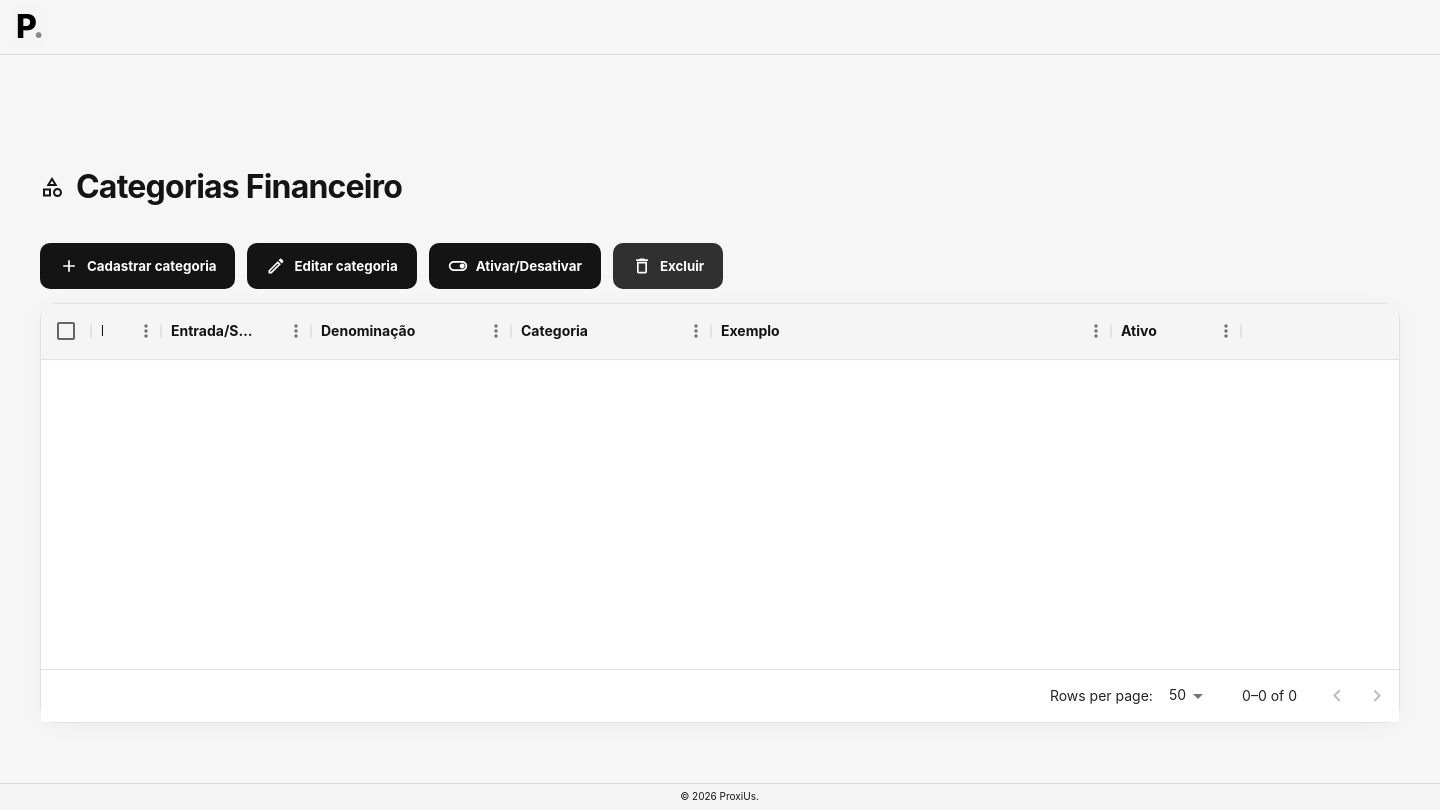
it: mantém o formulário de cadastro claro em /categoriasFinanceiro
Click the button "Cadastrar categoria" at (138, 266), box [40,243,236,289]
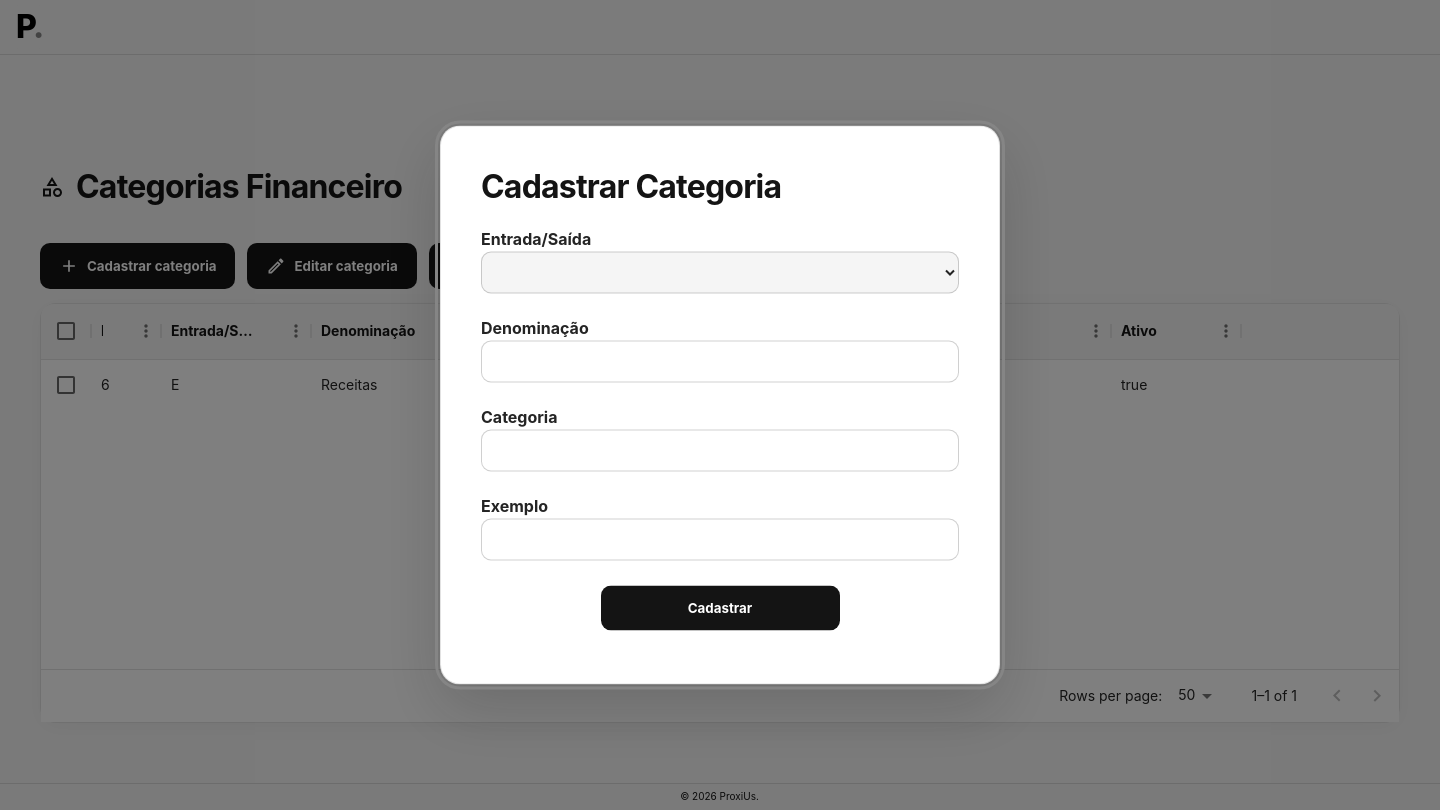
Expected: the heading "Cadastrar Categoria" is shown, [481,166,781,206]
